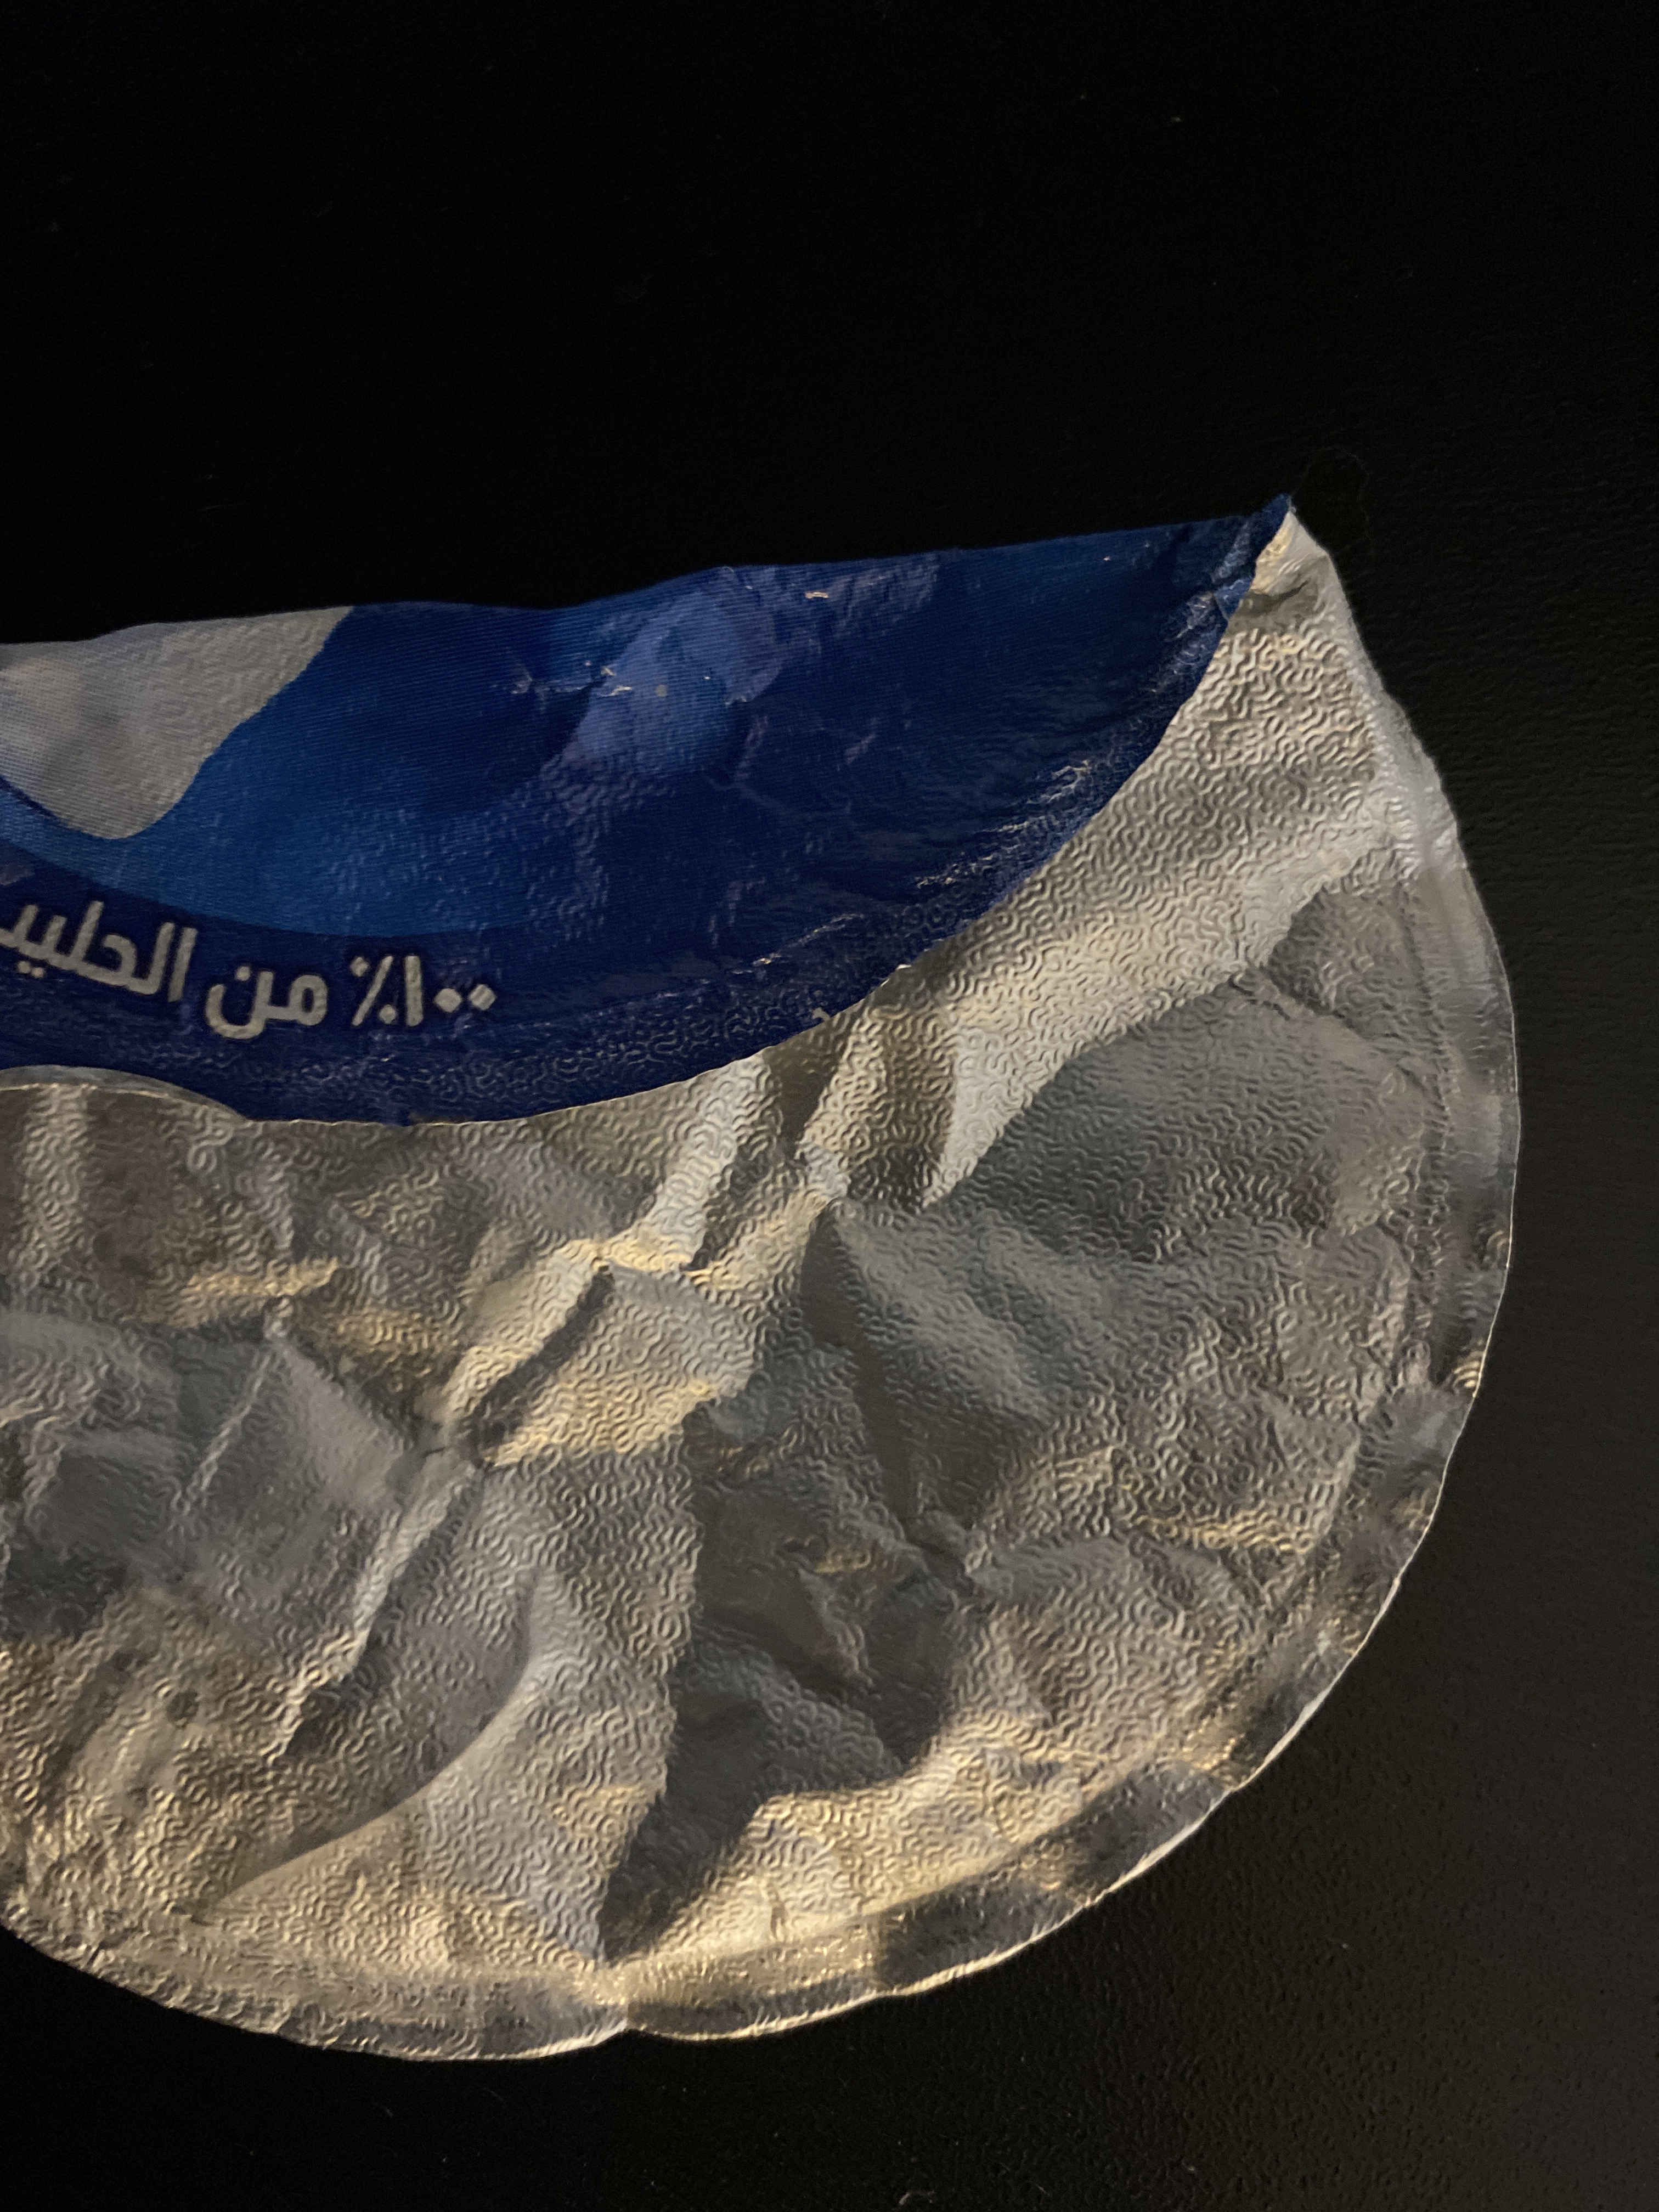metal: (2, 428, 1541, 2088)
